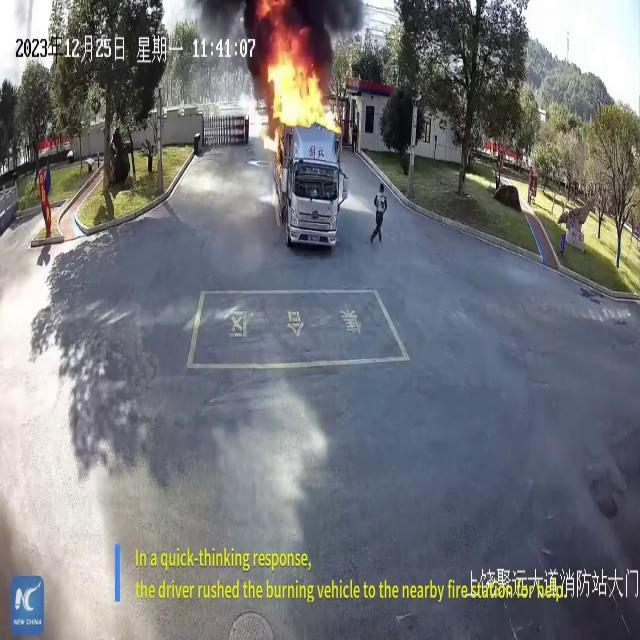Fire: (255, 22, 340, 150)
Smoke: (177, 1, 383, 51)
